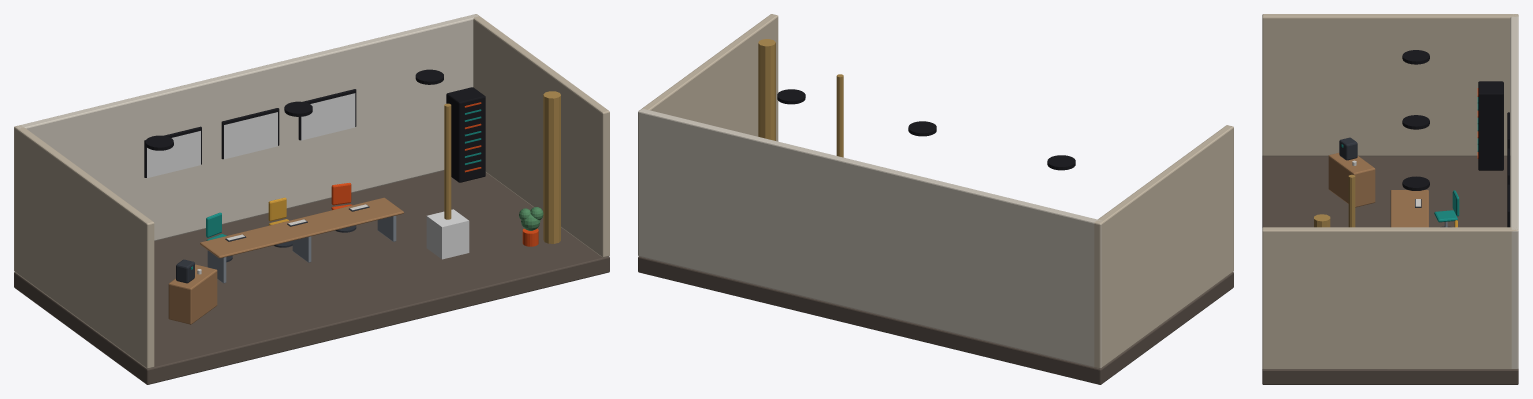
Rendered from basement.glb.
3 views of the same model, side by side, from view 1: azimuth 30°, elevation 25°; view 2: azimuth 150°, elevation 25°; view 3: azimuth 270°, elevation 25° (orthographic). The views are drawn at different scales.
Parts seen in each view (by area): view 1: static, screens, hit__dock; view 2: static; view 3: static.
Boxes of the visible parts, box(x1,y1,x2,y2) form: static: box(14, 14, 609, 384); screens: box(147, 93, 355, 177); hit__dock: box(426, 209, 469, 259); static: box(638, 14, 1233, 384); static: box(1262, 14, 1518, 384).
Bounding box in the file's own units: 12 × 4.03 × 6.
